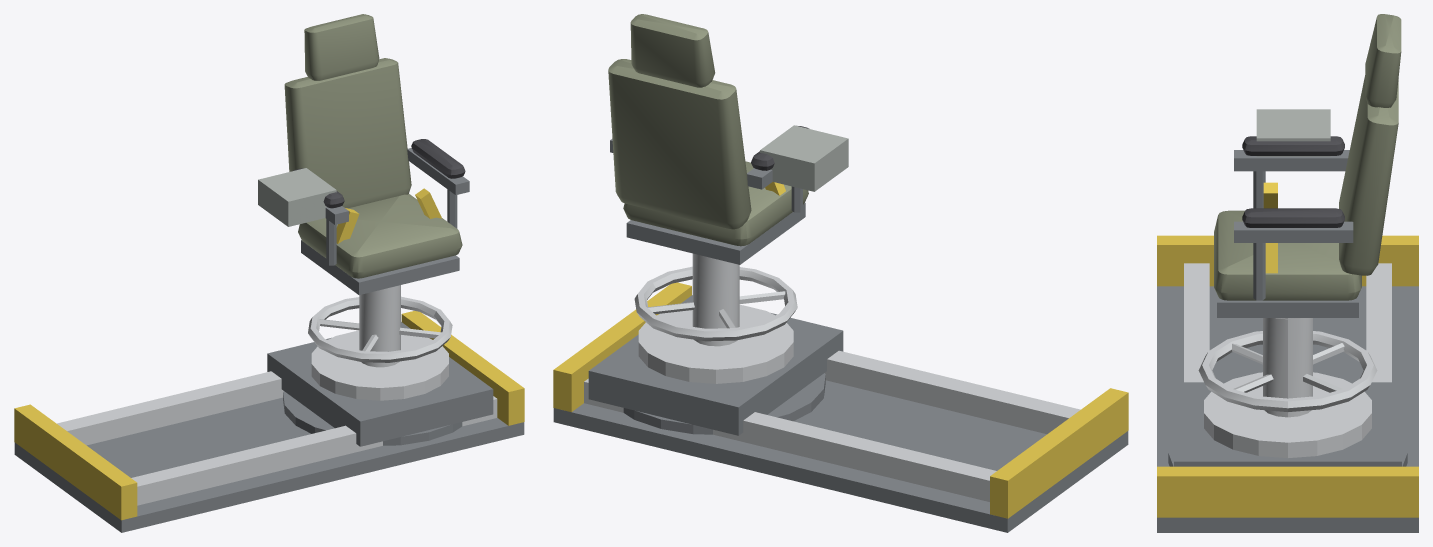
The model's file is cold-war-missile-silo-and-command-bunker-deputy-chair--1541353f__15659.glb.
3 renders of one model, left to right at view 1: azimuth 30°, elevation 25°; view 2: azimuth 150°, elevation 25°; view 3: azimuth 270°, elevation 25°, orthographic. The views are drawn at different scales.
Visible parts, largest first — view 1: chair-deputy (×6), deputy-chair-on-rails; view 2: chair-deputy (×4), deputy-chair-on-rails; view 3: chair-deputy (×6), deputy-chair-on-rails.
Part boxes in pixels (x1,y1,x2,y2): chair-deputy (×6): (258, 14, 493, 446); deputy-chair-on-rails: (14, 311, 524, 532); chair-deputy (×4): (588, 14, 848, 435); deputy-chair-on-rails: (553, 282, 1128, 532); chair-deputy (×6): (1174, 14, 1401, 466); deputy-chair-on-rails: (1157, 235, 1418, 532).
Bounding box in the file's own units: 2 × 1.74 × 0.92.
